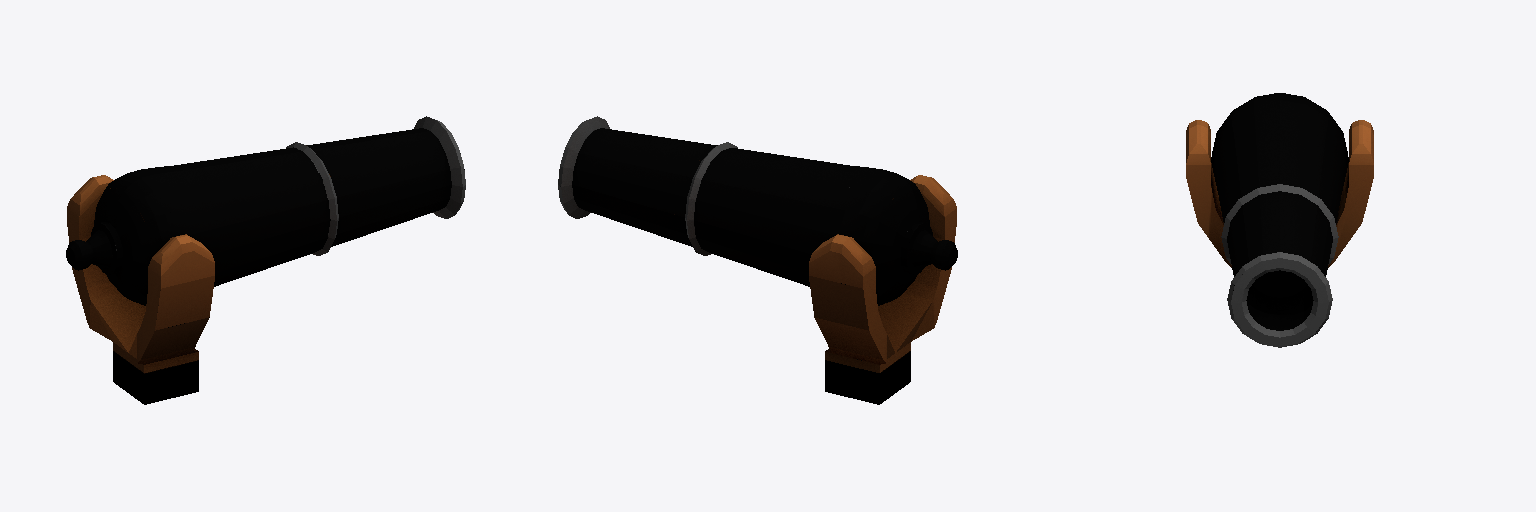
3 renders of one model, left to right at view 1: azimuth 30°, elevation 25°; view 2: azimuth 150°, elevation 25°; view 3: azimuth 270°, elevation 25°, orthographic.
Visible parts, largest first — view 1: Canon_Sphere.001; view 2: Canon_Sphere.001; view 3: Canon_Sphere.001.
Boxes of the visible parts, x1,y1,x2,y2 form: Canon_Sphere.001: [66, 116, 465, 404]; Canon_Sphere.001: [558, 116, 957, 404]; Canon_Sphere.001: [1186, 93, 1373, 347].
Bounding box in the file's own units: 0.4573 × 0.2499 × 0.2001.
1 materials, 1 textured.